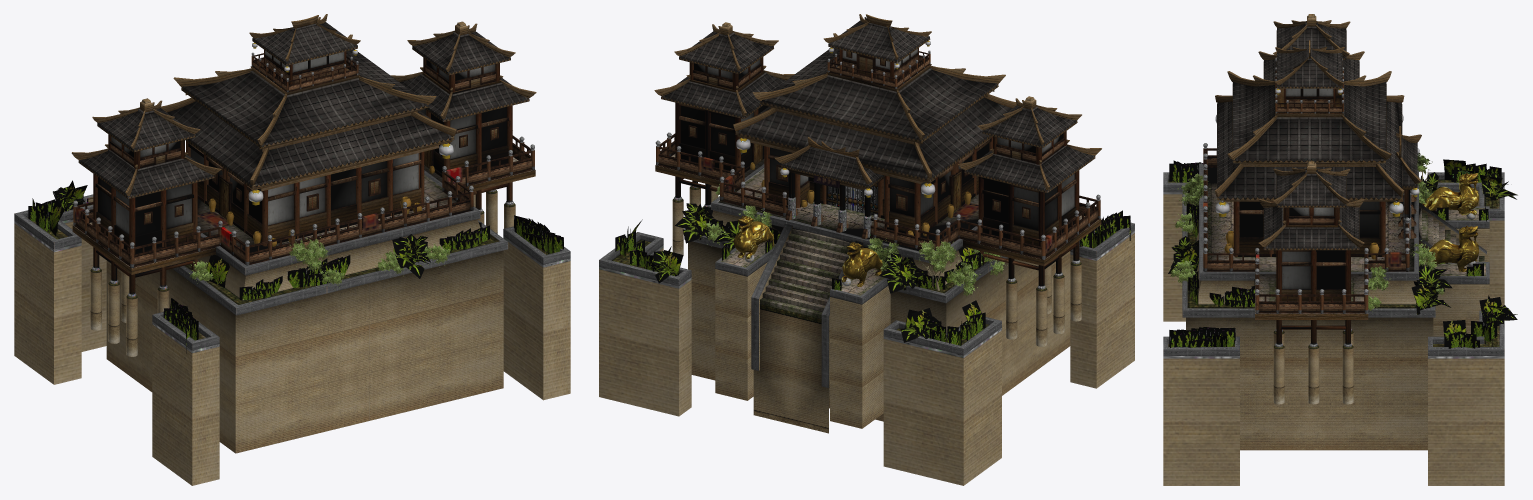
The model's file is han_imperial_court.glb.
The picture shows the model from 3 angles, left to right: view 1: azimuth 30°, elevation 25°; view 2: azimuth 150°, elevation 25°; view 3: azimuth 270°, elevation 25°; orthographic projection. The views are drawn at different scales.
Visible parts, largest first — view 1: han_imperial_court_part0, han_imperial_court_part3, han_imperial_court_part1; view 2: han_imperial_court_part0, han_imperial_court_part3, han_imperial_court_part1, han_imperial_court_part4; view 3: han_imperial_court_part0, han_imperial_court_part3, han_imperial_court_part4, han_imperial_court_part1.
Boxes of the visible parts, <box> form: han_imperial_court_part0: <box>14,14,570,485</box>; han_imperial_court_part3: <box>28,180,563,353</box>; han_imperial_court_part1: <box>189,236,451,287</box>; han_imperial_court_part0: <box>599,14,1134,485</box>; han_imperial_court_part3: <box>615,203,1130,345</box>; han_imperial_court_part1: <box>703,184,1007,301</box>; han_imperial_court_part4: <box>733,215,882,286</box>; han_imperial_court_part0: <box>1163,14,1504,485</box>; han_imperial_court_part3: <box>1168,159,1517,348</box>; han_imperial_court_part4: <box>1422,173,1478,271</box>; han_imperial_court_part1: <box>1166,153,1444,311</box>.
Bounding box in the file's own units: 6 × 5.09 × 4.68.
Materials: 5 (5 with a texture image).
